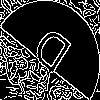D: (25, 25, 74, 83)
